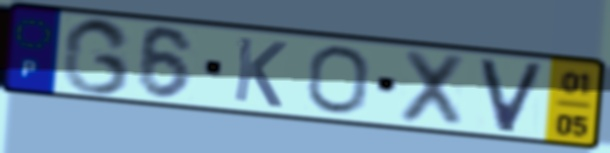6: (134, 24, 202, 102)
G: (58, 16, 134, 98)
K: (229, 33, 290, 111)
O: (305, 43, 371, 117)
V: (476, 56, 548, 136)
X: (395, 47, 470, 131)
